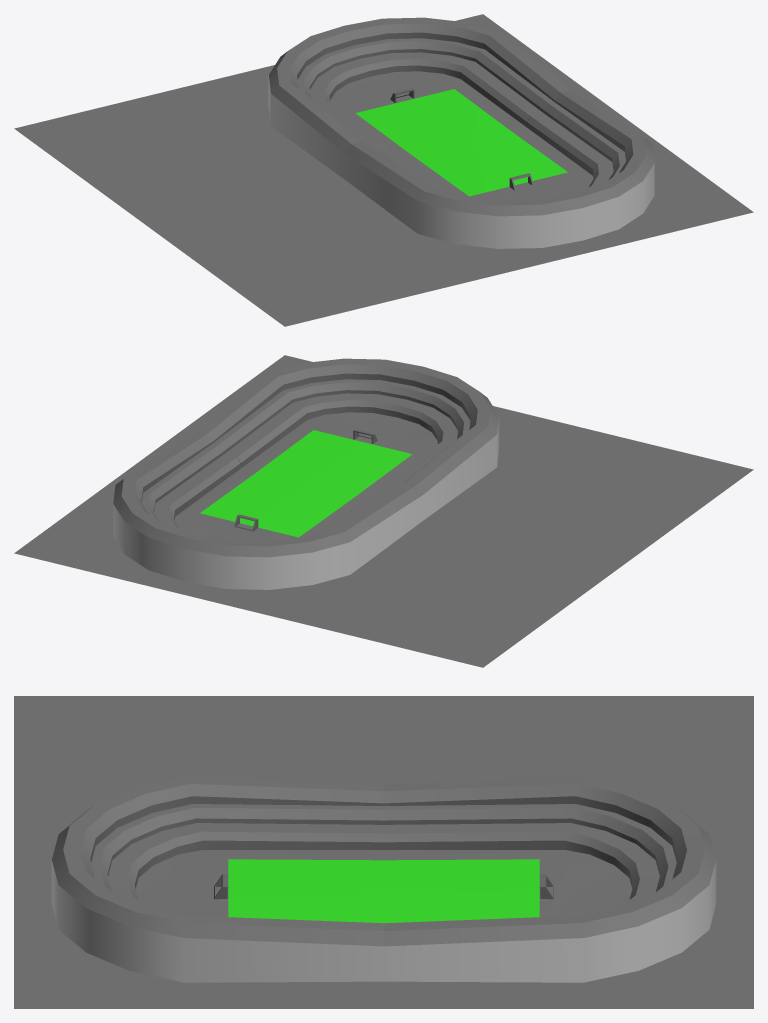
Rendered from stadion.fbx.
3 views of the same model, one above another, from view 1: azimuth 30°, elevation 25°; view 2: azimuth 150°, elevation 25°; view 3: azimuth 270°, elevation 25° (orthographic). The views are drawn at different scales.
Parts seen in each view (by area): view 1: Cylinder; view 2: Cylinder; view 3: Cylinder.
Boxes of the visible parts, x1=… form: Cylinder: x1=14, y1=14, x2=753, y2=326; Cylinder: x1=14, y1=355, x2=753, y2=667; Cylinder: x1=14, y1=696, x2=753, y2=1008.
Size of the model in its own units: 400 by 32.74 by 400.
